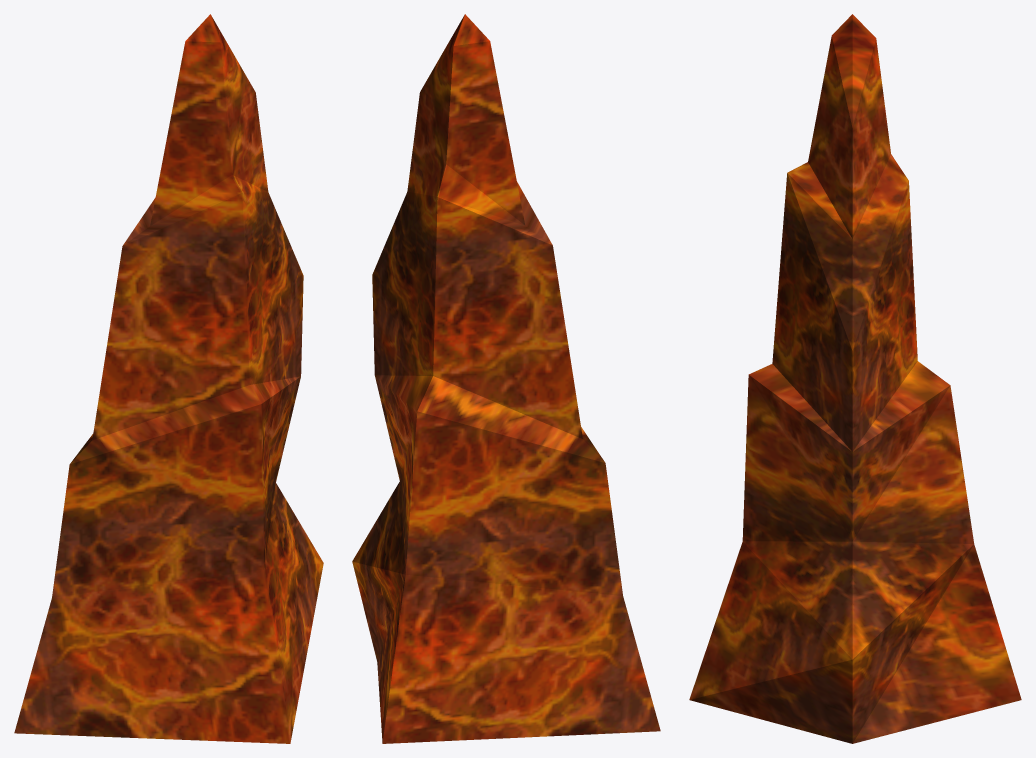
The model's file is spike-lod1.glb.
The picture shows the model from 3 angles, left to right: view 1: azimuth 30°, elevation 25°; view 2: azimuth 150°, elevation 25°; view 3: azimuth 270°, elevation 25°; orthographic projection. The views are drawn at different scales.
Visible parts, largest first — view 1: spike-lod1; view 2: spike-lod1; view 3: spike-lod1.
Part boxes in pixels (left/top/right/bottom): spike-lod1: left=14, top=14, right=323, bottom=743; spike-lod1: left=352, top=14, right=660, bottom=743; spike-lod1: left=689, top=14, right=1021, bottom=743.
Size of the model in its own units: 7.27 by 15.08 by 6.62.
1 material, 1 textured.
